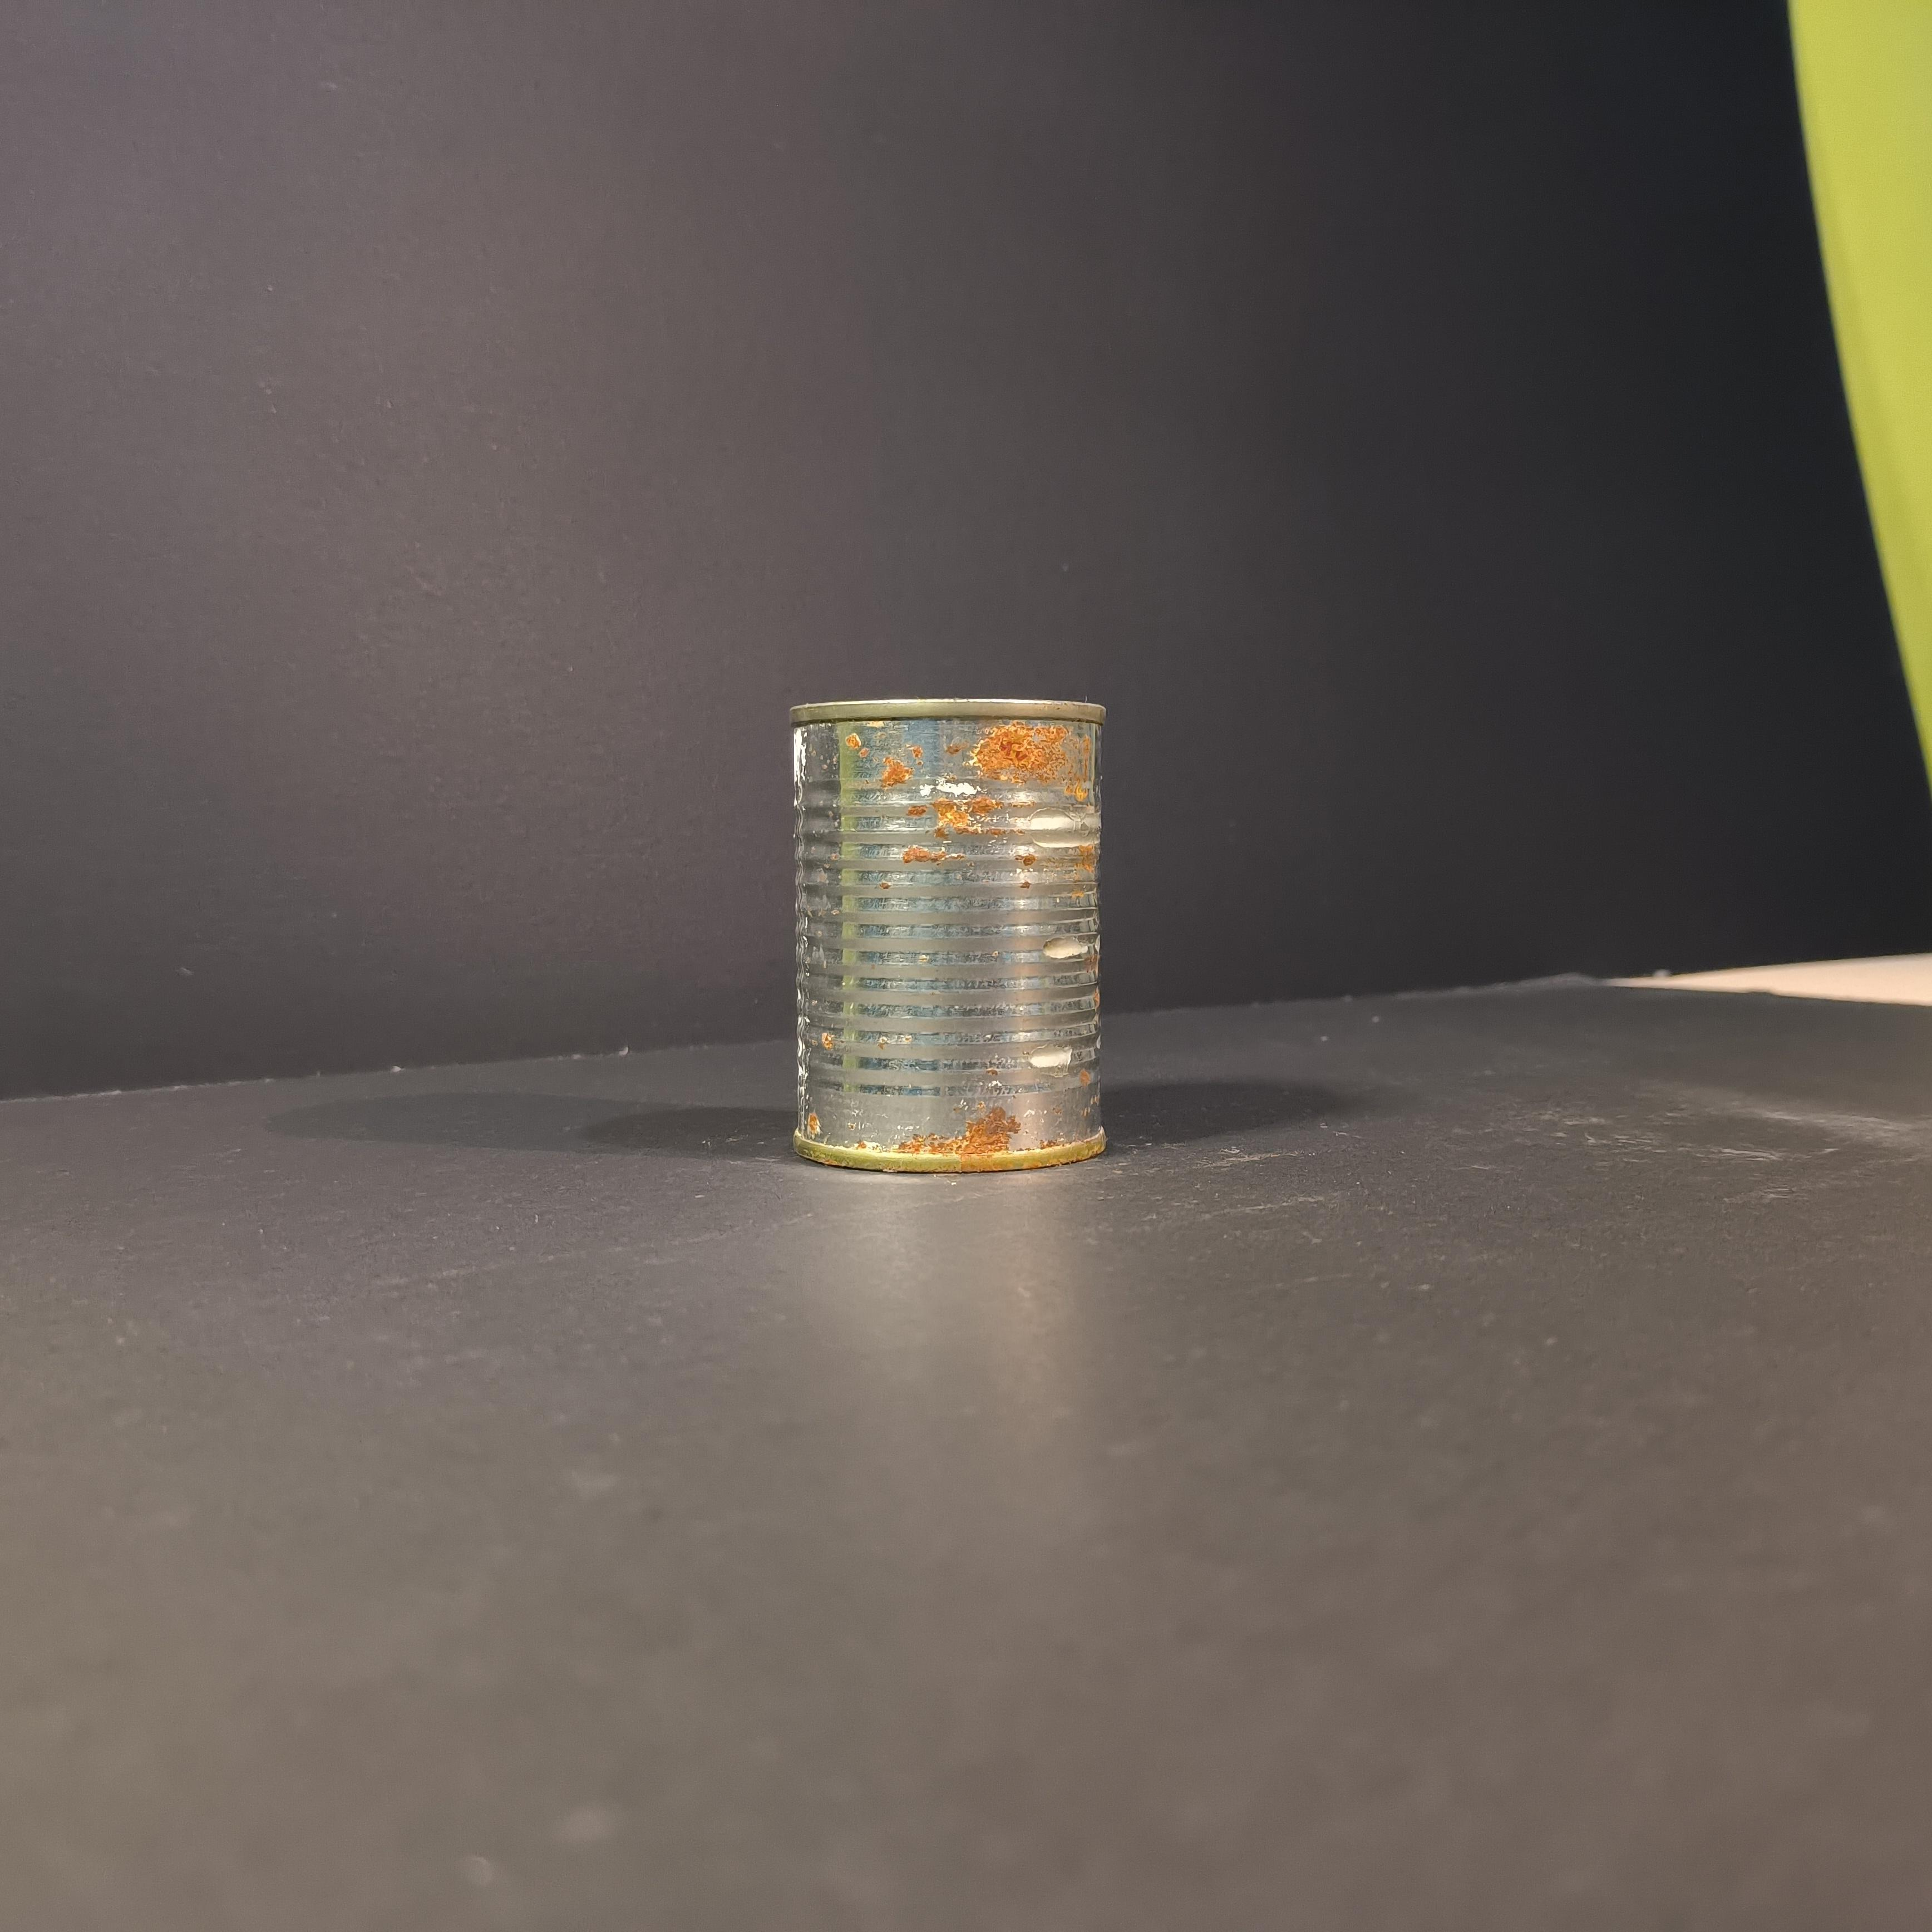Rusted: (765, 684, 1141, 1202)
